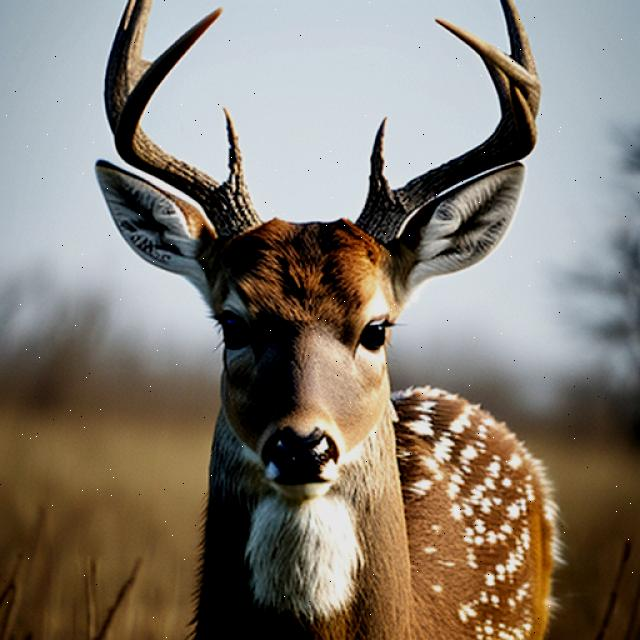deer: (71, 0, 591, 640)
